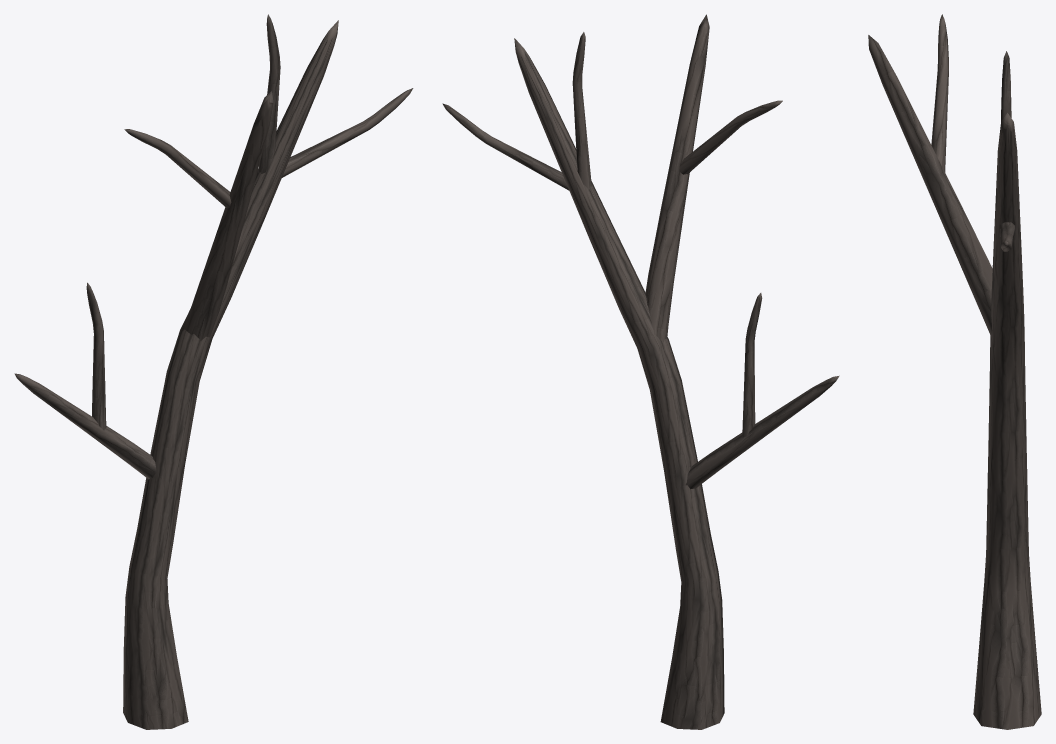
Rendered from dead_tree_04.glb.
3 views of the same model, side by side, from view 1: azimuth 30°, elevation 25°; view 2: azimuth 150°, elevation 25°; view 3: azimuth 270°, elevation 25° (orthographic). The views are drawn at different scales.
Parts seen in each view (by area): view 1: DeadTree_9; view 2: DeadTree_9; view 3: DeadTree_9.
Boxes of the visible parts, x1=… form: DeadTree_9: x1=14, y1=14, x2=413, y2=729; DeadTree_9: x1=442, y1=14, x2=839, y2=729; DeadTree_9: x1=868, y1=14, x2=1041, y2=729.
Bounding box in the file's own units: 2.06 × 3.3 × 0.7175.
1 material, 1 textured.
